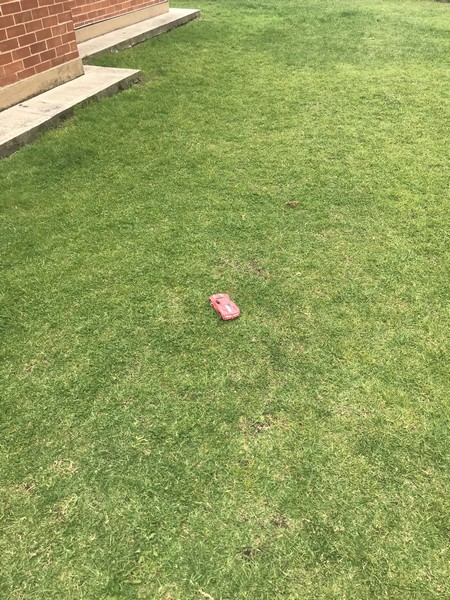RC: (208, 291, 243, 324)
